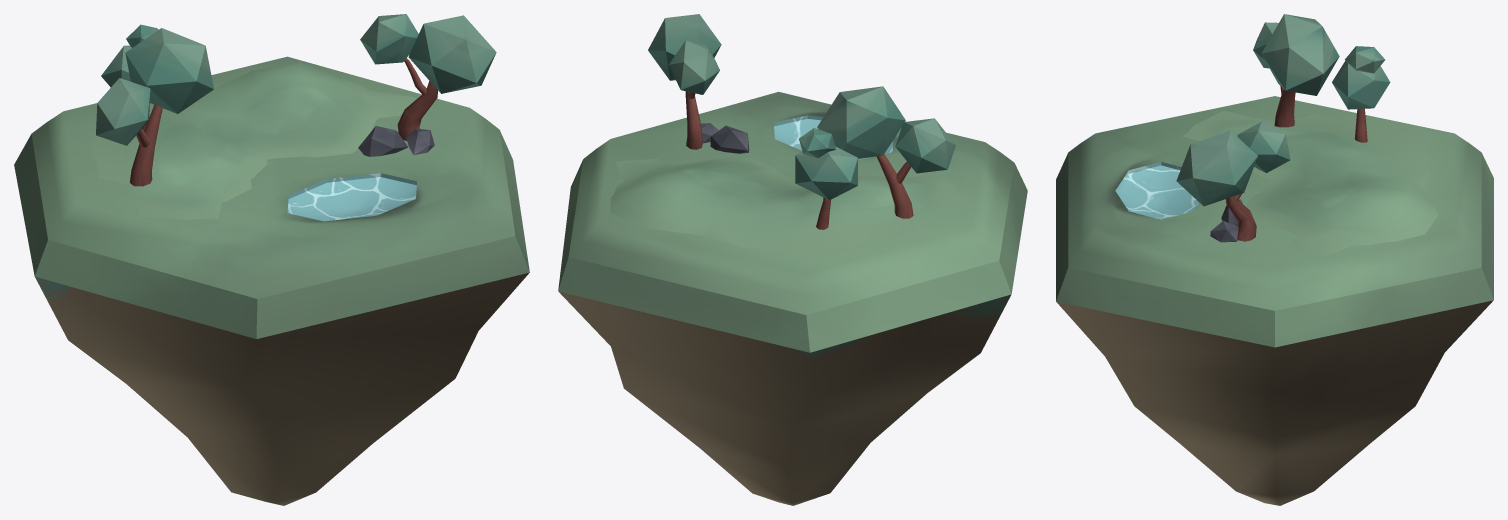
Rendered from islet_1.fbx.
3 renders of one model, left to right at view 1: azimuth 30°, elevation 25°; view 2: azimuth 150°, elevation 25°; view 3: azimuth 270°, elevation 25°, orthographic. The views are drawn at different scales.
Parts seen in each view (by area): view 1: pPlatonic11; view 2: pPlatonic11; view 3: pPlatonic11.
Boxes of the visible parts, x1,y1,x2,y2 form: pPlatonic11: (14,14,529,505); pPlatonic11: (558,14,1027,505); pPlatonic11: (1056,14,1493,505).
Size of the model in its own units: 11.53 by 11.08 by 9.99.
1 material, 1 textured.
